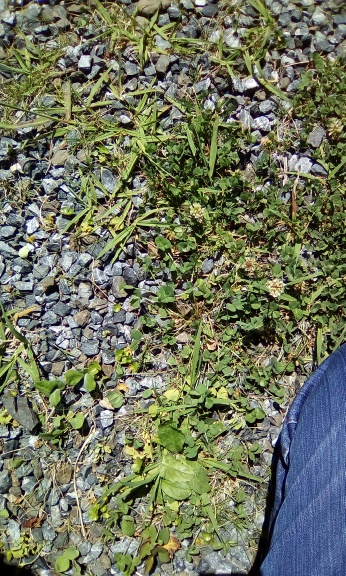4leaf: (156, 285, 175, 304)
